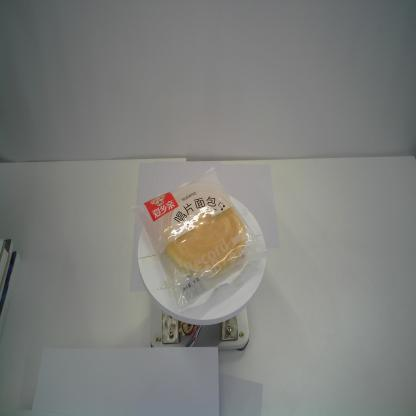Dessert: (130, 165, 270, 315)
